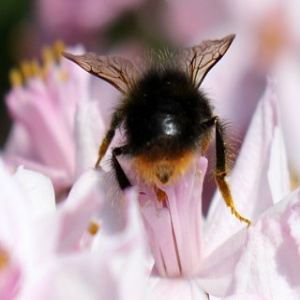bee: (59, 33, 265, 229)
